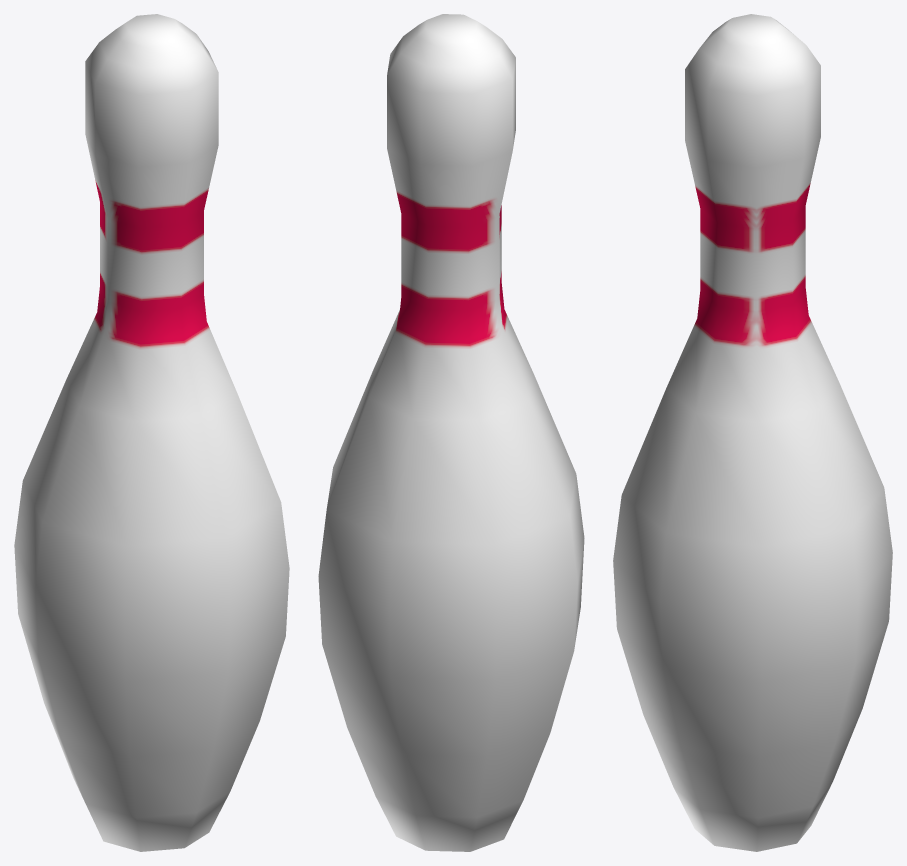
File: Stick.glb
3 views of the same model, side by side, from view 1: azimuth 30°, elevation 25°; view 2: azimuth 150°, elevation 25°; view 3: azimuth 270°, elevation 25° (orthographic).
Visible parts, largest first — view 1: Stick; view 2: Stick; view 3: Stick.
Part boxes in pixels (x1,y1,x2,y2): Stick: [14, 14, 289, 851]; Stick: [318, 14, 584, 851]; Stick: [613, 14, 892, 851].
Bounding box in the file's own units: 0.1026 × 0.3245 × 0.1026.
Materials: 1 (1 with a texture image).
